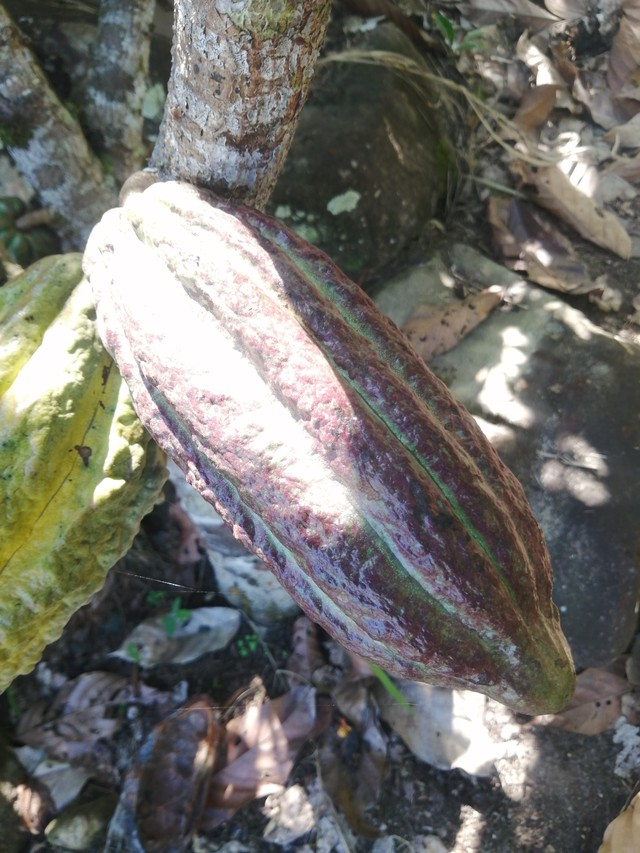Health: (75, 166, 587, 728)
